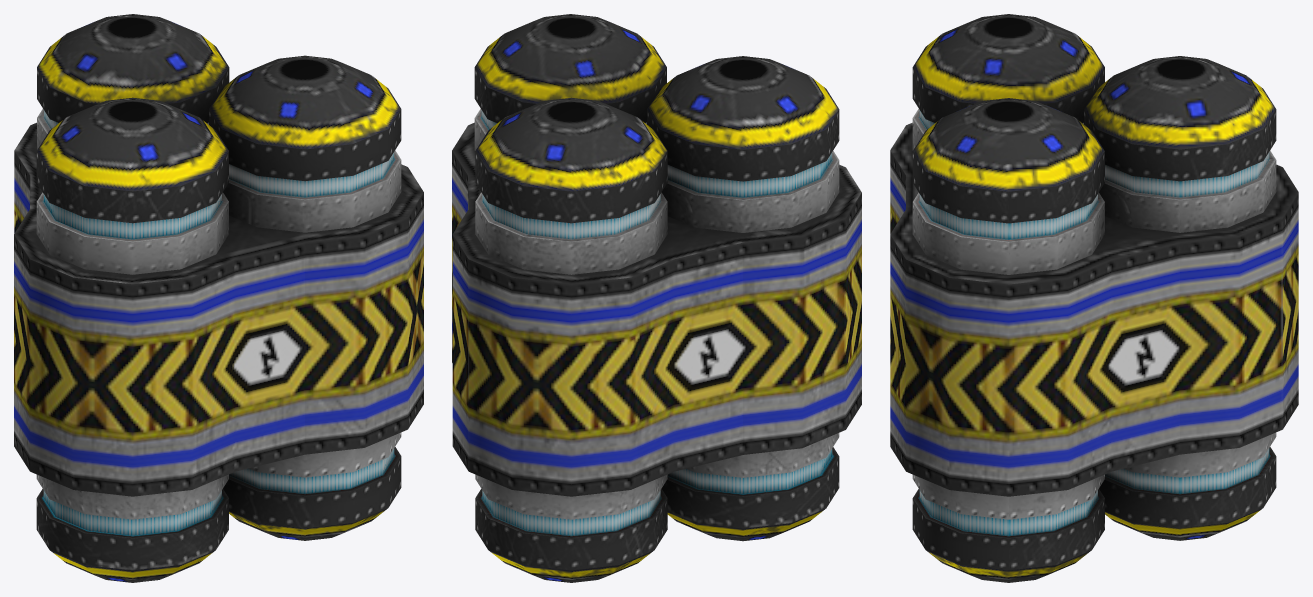
File: battery_pickup2.dae
3 renders of one model, left to right at view 1: azimuth 30°, elevation 25°; view 2: azimuth 150°, elevation 25°; view 3: azimuth 270°, elevation 25°, orthographic.
Visible parts, largest first — view 1: battery2; view 2: battery2; view 3: battery2.
Boxes of the visible parts, bbox=[...] form: battery2: bbox=[14, 14, 423, 582]; battery2: bbox=[452, 14, 861, 582]; battery2: bbox=[890, 14, 1298, 582].
Size of the model in its own units: 0.9335 by 0.8746 by 1.09.
1 material, 1 textured.
